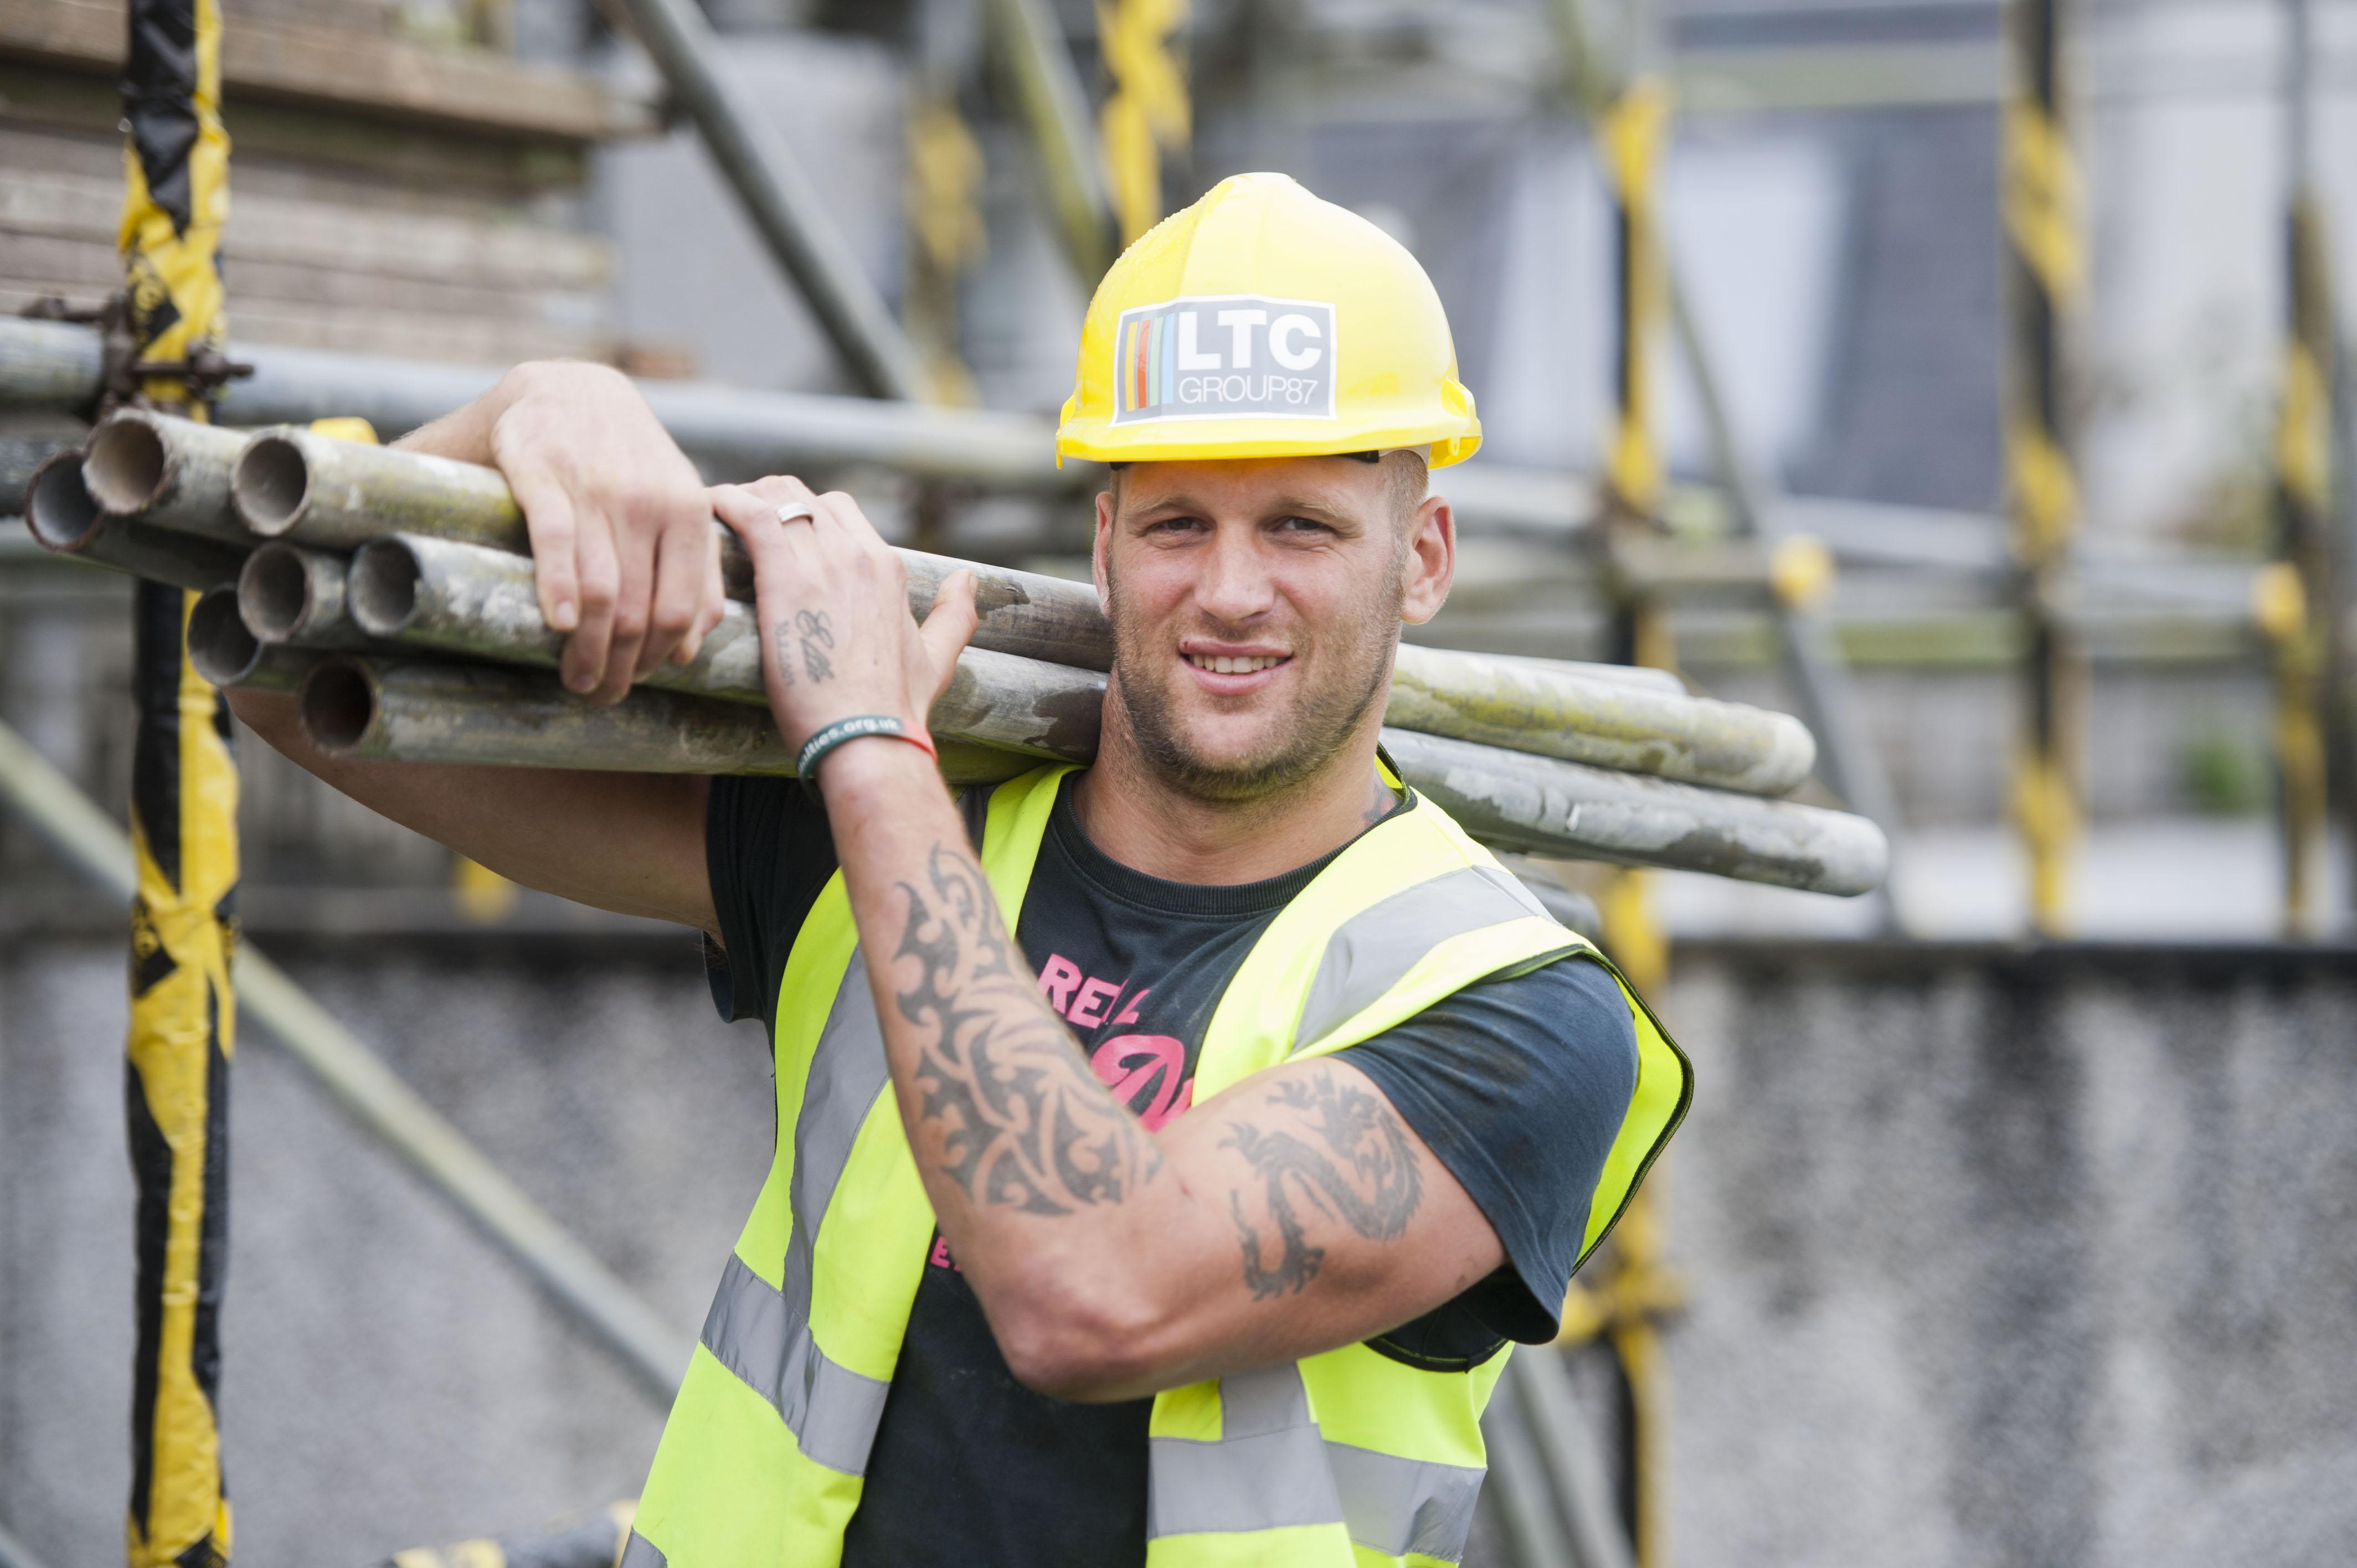helmet: (1053, 150, 1486, 472)
